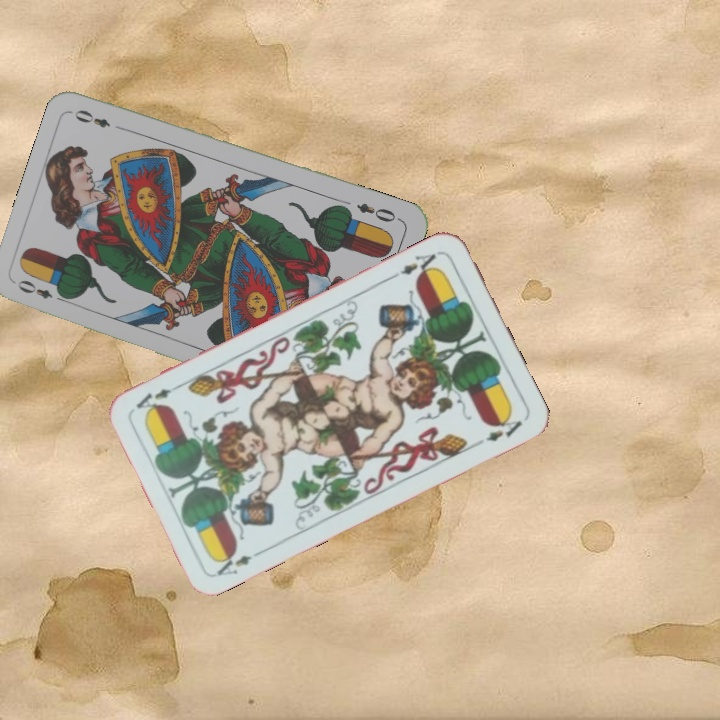EA: (211, 545, 266, 579), (389, 249, 441, 282)
EO: (13, 276, 70, 305), (352, 198, 403, 225)
